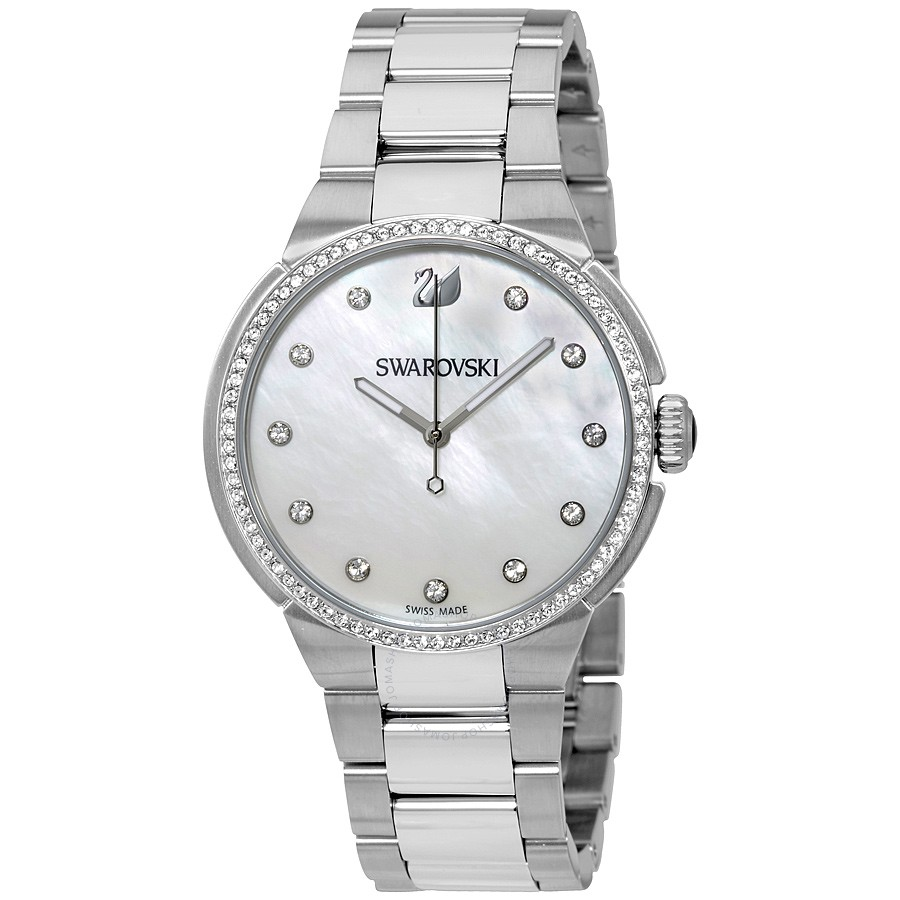clock: (203, 216, 663, 652)
